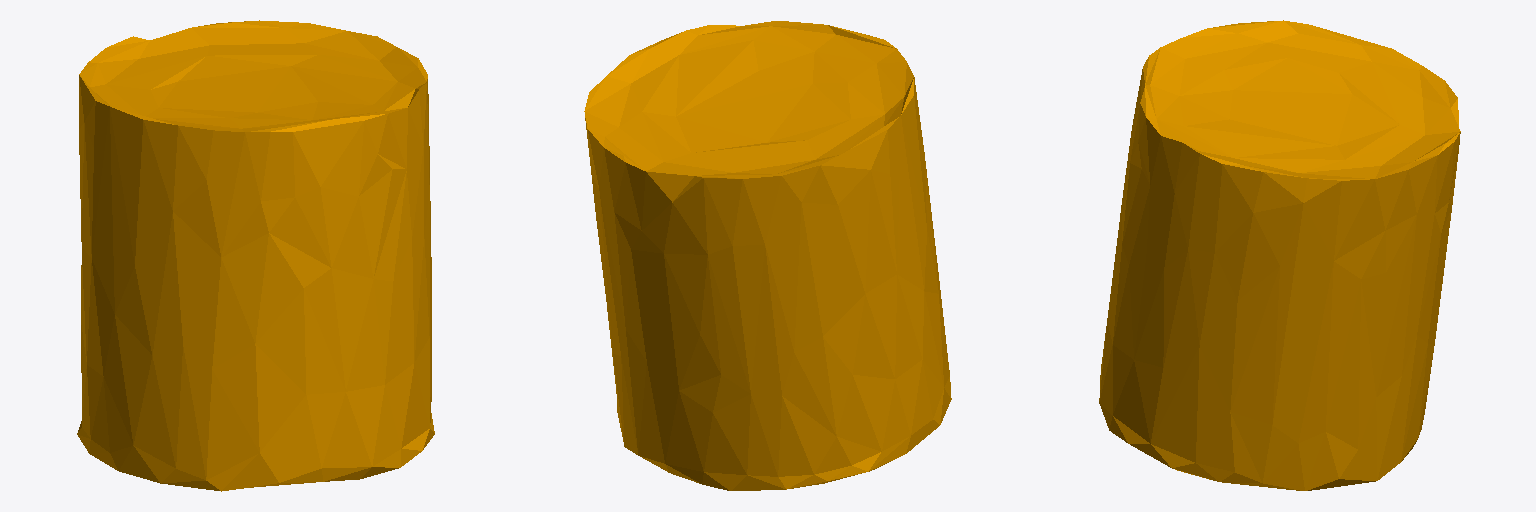
The robot description file, URDF, robot "SauerkrautSmall_800_tex":
<?xml version="1.0"?>
<robot name="SauerkrautSmall_800_tex">
  <link name="base_link">
    <contact>
      <lateral_friction value="1.0"/>
      <rolling_friction value="0.0"/>
      <contact_cfm value="0.0"/>
      <contact_erp value="1.0"/>
    </contact>
    <inertial>
      <mass value="0.0378910932125"/>
      <inertia ixx="1" ixy="0" ixz="0" iyy="1" iyz="0" izz="1"/>
    </inertial>
    <visual>
      <geometry>
        <mesh filename="SauerkrautSmall_800_tex_visual.obj"/>
      </geometry>
    </visual>
    <collision>
      <geometry>
        <mesh filename="SauerkrautSmall_800_tex_collision.obj"/>
      </geometry>
    </collision>
  </link>
</robot>

--- What the picture shows (computed from the rendered views, not written in the file) ---
3 views of the same robot in one strip: view 1: azimuth 30°, elevation 25°; view 2: azimuth 150°, elevation 25°; view 3: azimuth 270°, elevation 25° (orthographic).
Model SauerkrautSmall_800_tex with 1 links and 0 joints (none), rooted at base_link, posed all joints at 0.
Visible links, largest first — view 1: base_link; view 2: base_link; view 3: base_link.
Link boxes in pixels (bbox=[...]): base_link: bbox=[77, 20, 434, 491]; base_link: bbox=[584, 21, 951, 490]; base_link: bbox=[1099, 20, 1460, 490].
Size in the robot's own frame: 0.0641 by 0.0668 by 0.0724 metres.
Meshes: 1 distinct files referenced, 1 mesh visuals loaded (1 OBJ).